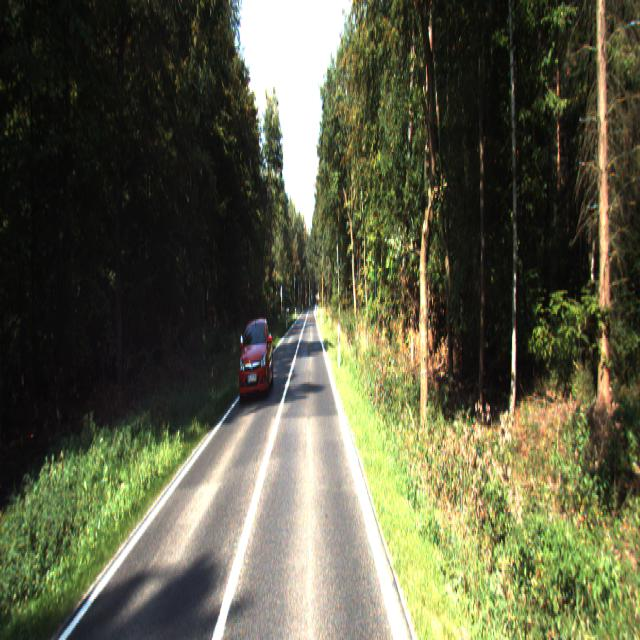Car: (236, 318, 274, 404)
